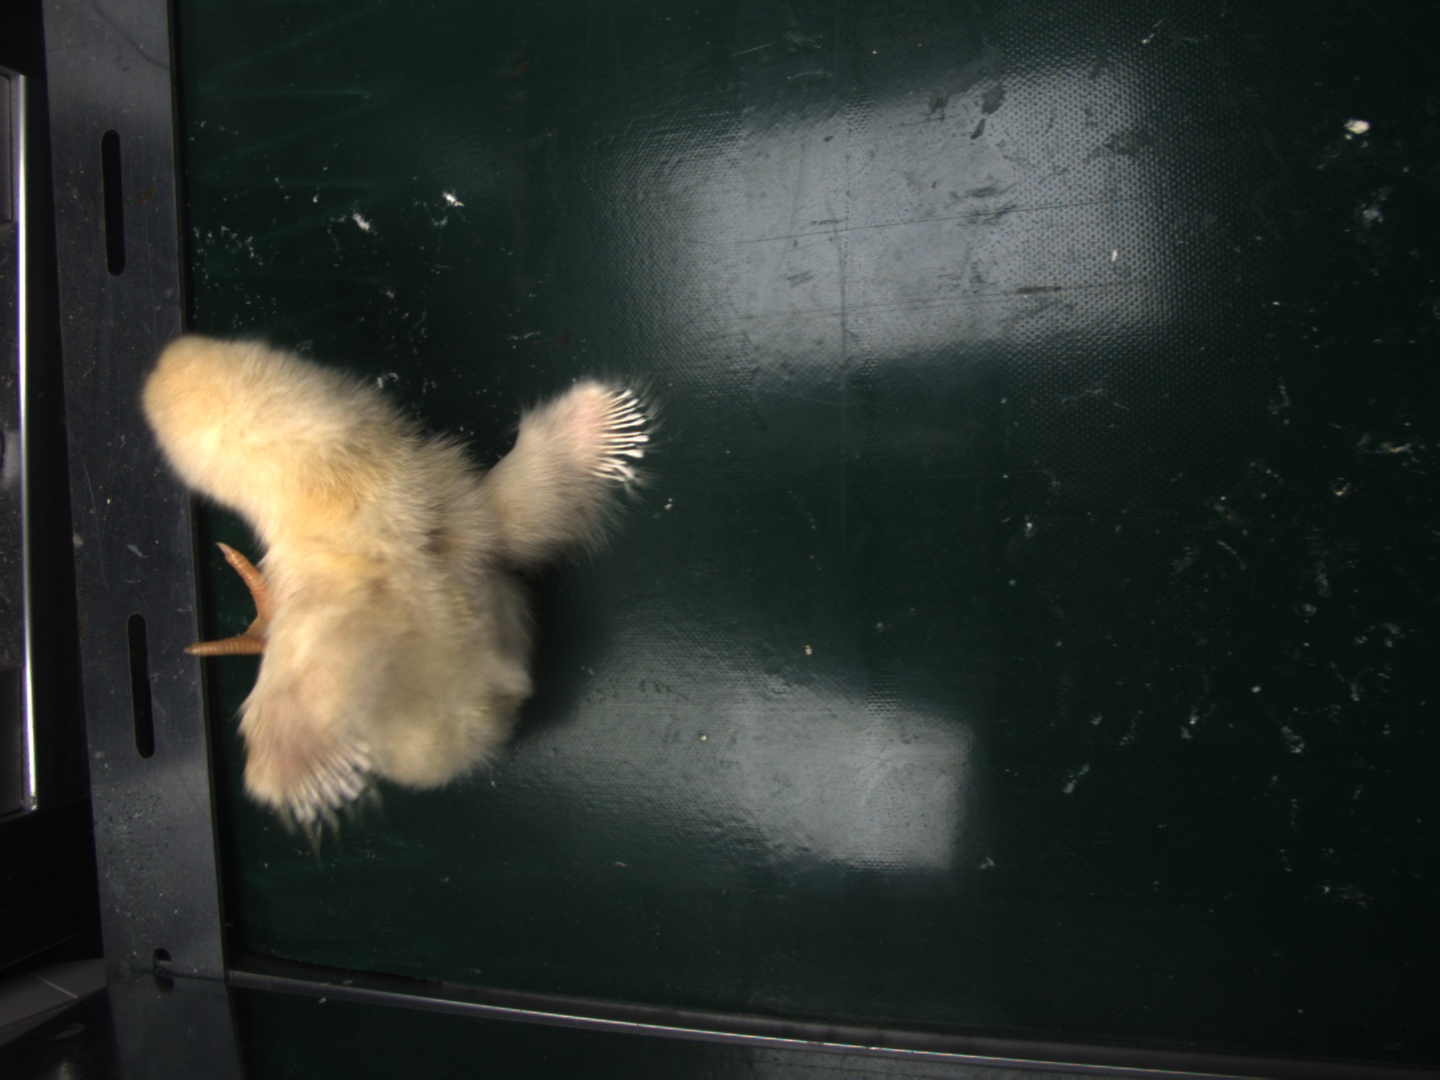male: (592, 383, 658, 481)
